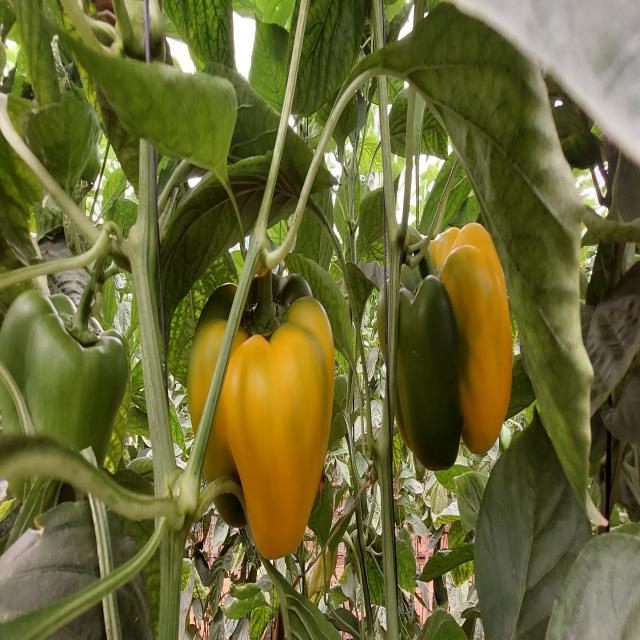Yellow-Ready-to-Harvest: (188, 265, 336, 557), (432, 219, 516, 460)
